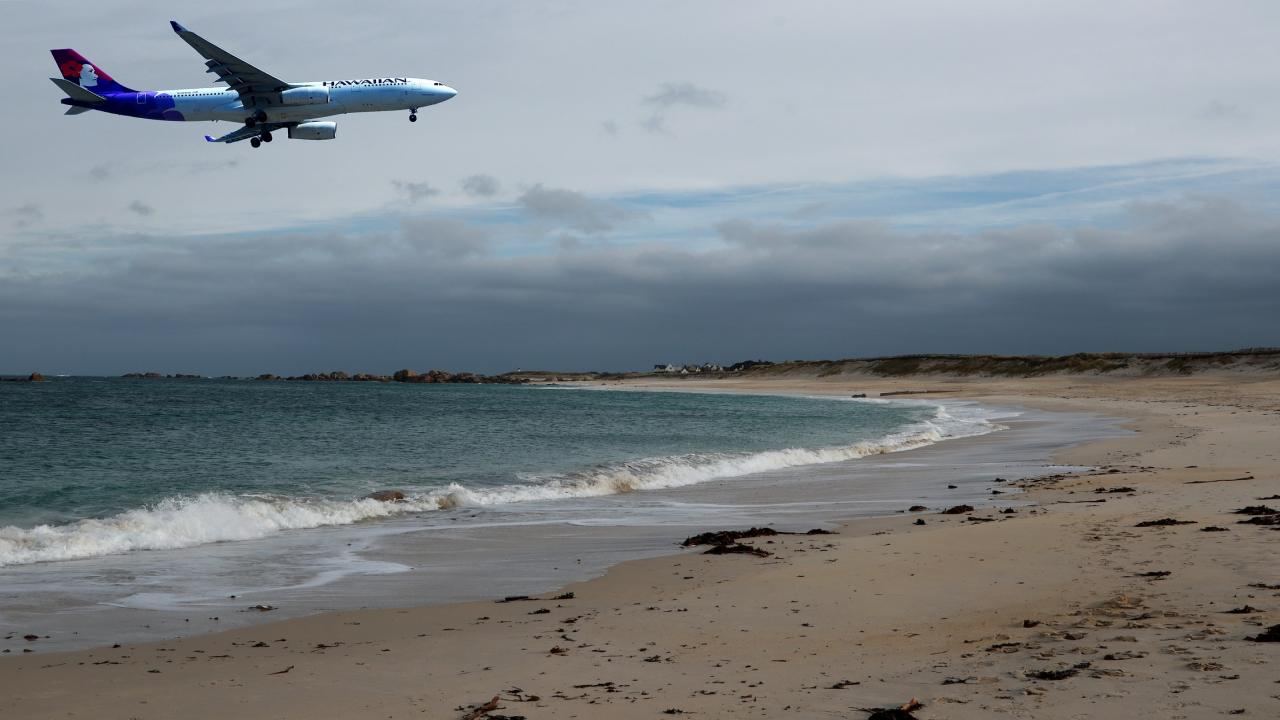Airplane: (41, 12, 467, 153)
